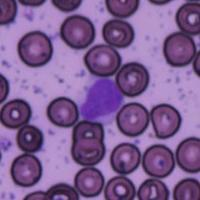M: (77, 76, 125, 123)
